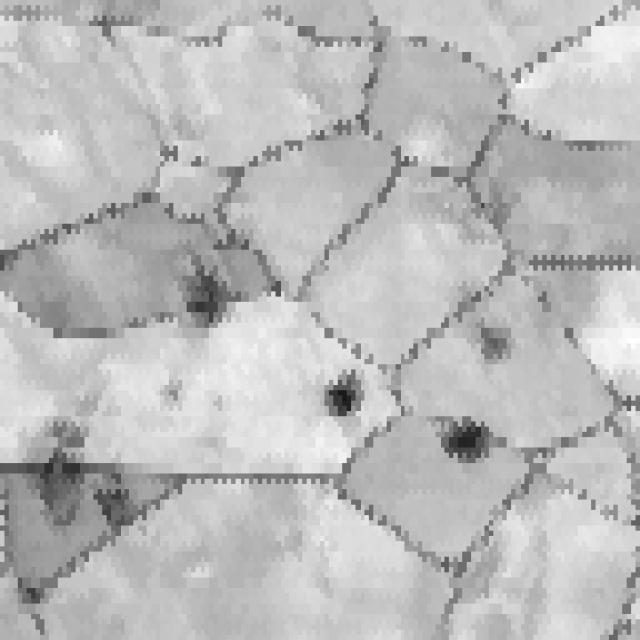good_void: (30, 413, 86, 527), (436, 411, 498, 474), (173, 261, 226, 323), (90, 480, 137, 536), (475, 325, 518, 371), (323, 378, 359, 423), (161, 382, 188, 409)
